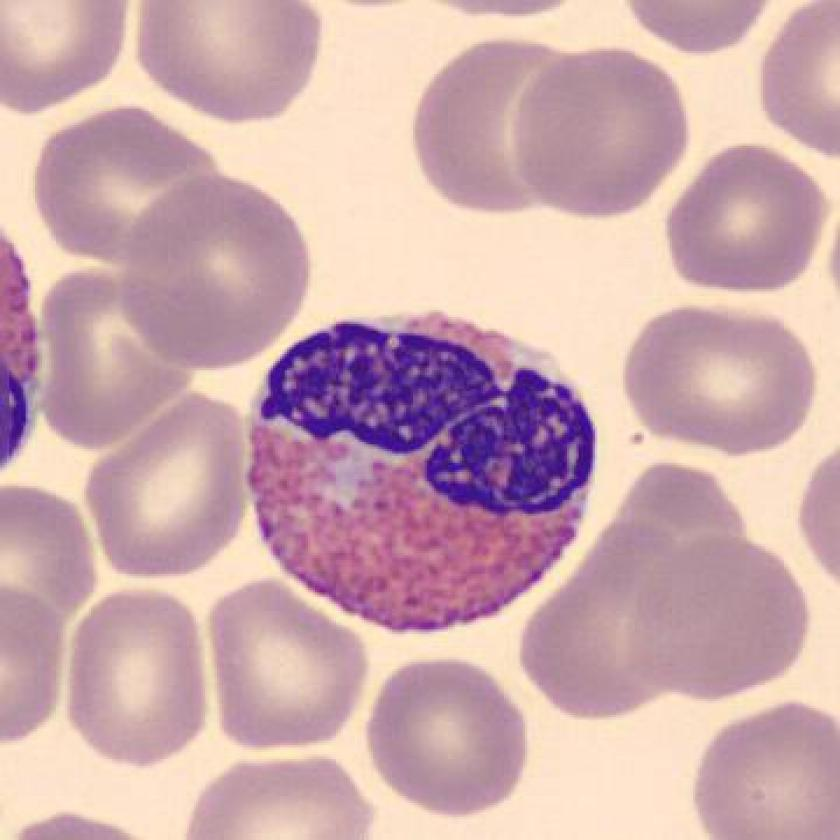eosinophil: (241, 298, 608, 638)
